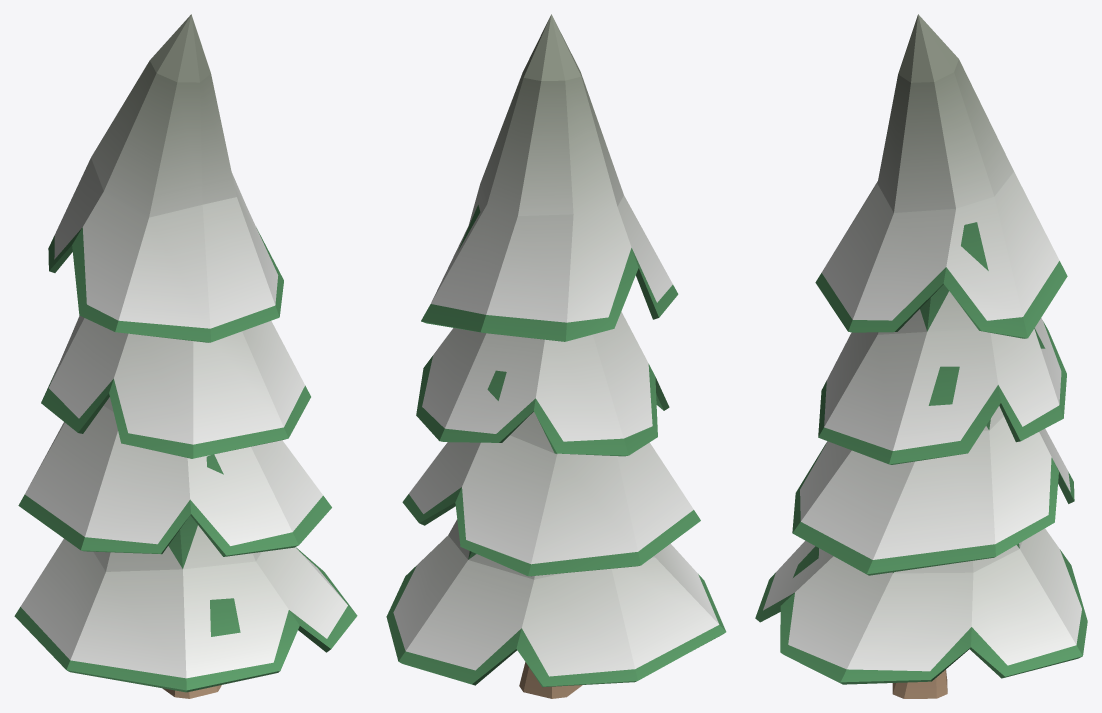
Rendered from SnowPine6.fbx.
3 renders of one model, left to right at view 1: azimuth 30°, elevation 25°; view 2: azimuth 150°, elevation 25°; view 3: azimuth 270°, elevation 25°, orthographic.
Parts seen in each view (by area): view 1: SnowPine6; view 2: SnowPine6; view 3: SnowPine6.
Part boxes in pixels (x1,y1,x2,y2): SnowPine6: (14,14,357,698); SnowPine6: (386,14,726,698); SnowPine6: (755,14,1087,698).
Bounding box in the file's own units: 499 × 1107 × 495.
